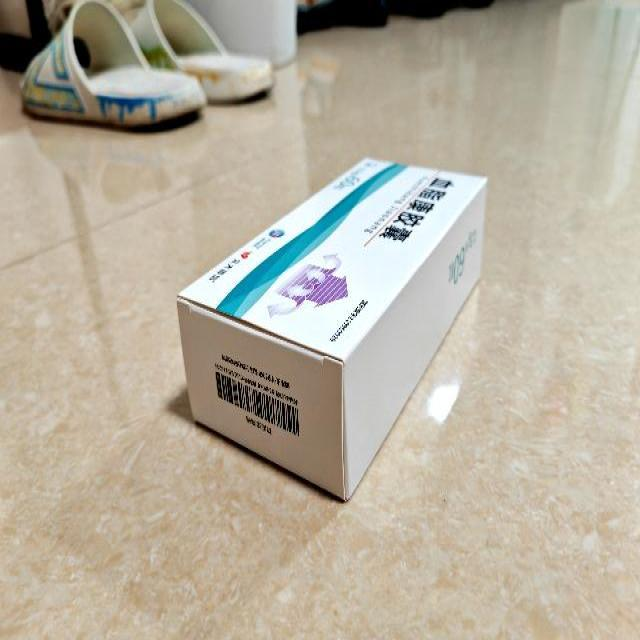box: (178, 158, 488, 502)
